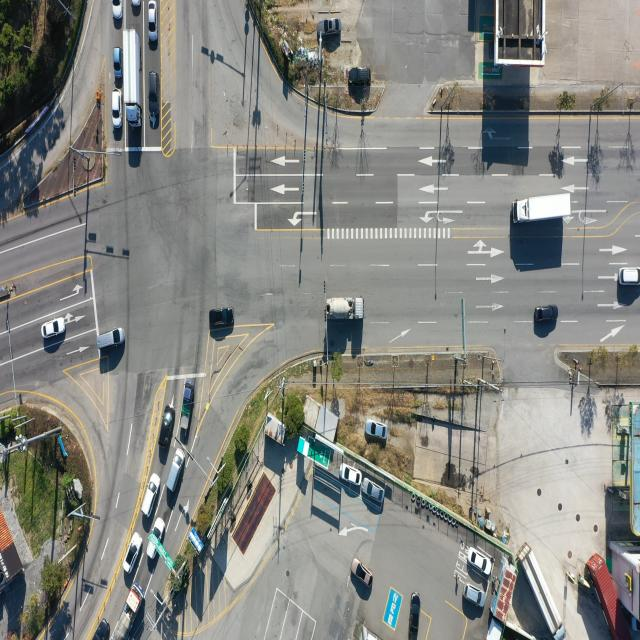car: (140, 474, 160, 518), (167, 447, 186, 493), (147, 518, 166, 564), (125, 532, 144, 574), (158, 408, 173, 456), (97, 329, 125, 352), (470, 548, 493, 575), (351, 560, 373, 588), (148, 70, 160, 116), (463, 584, 485, 609), (44, 318, 67, 340), (210, 306, 235, 326), (341, 464, 363, 486), (363, 481, 384, 503), (364, 420, 386, 440), (618, 266, 640, 286), (350, 66, 372, 85), (411, 593, 422, 631), (534, 306, 557, 323), (318, 19, 340, 35), (112, 90, 121, 127), (94, 618, 109, 640), (148, 2, 156, 42), (116, 50, 124, 79), (112, 0, 123, 20), (133, 0, 141, 7)
medium_truck: (523, 543, 566, 638), (514, 193, 573, 226), (116, 584, 146, 640), (126, 30, 142, 124), (328, 295, 366, 321)
small_truck: (180, 383, 196, 428)
